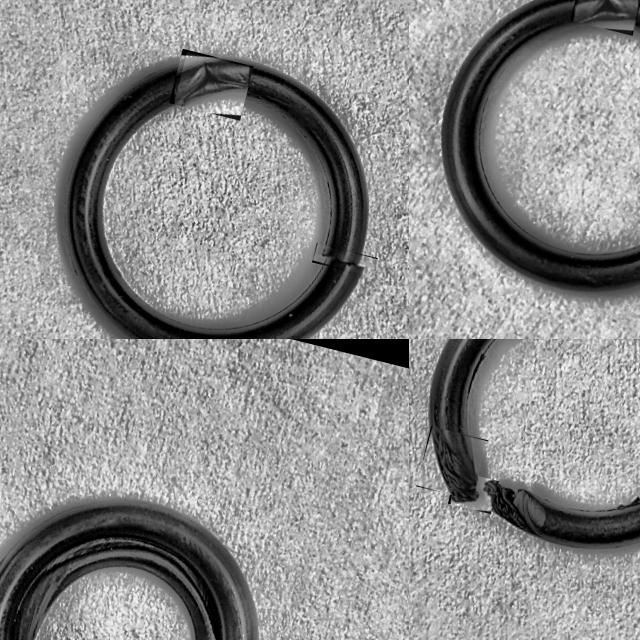切割缺陷: (174, 56, 248, 107), (430, 427, 476, 495), (492, 483, 544, 538), (573, 0, 636, 24)
挤压缺陷: (315, 250, 372, 276), (451, 478, 493, 508)
裂纹: (12, 539, 220, 640), (468, 353, 486, 396), (610, 495, 640, 510)
